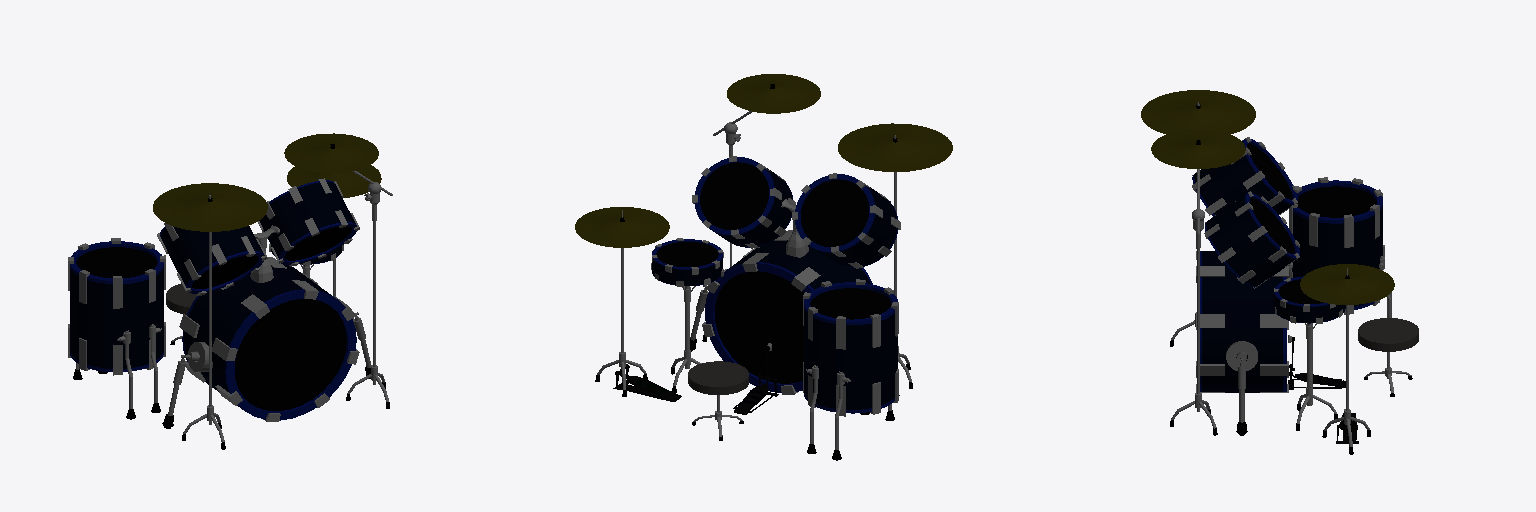
The model's file is musical_drum.obj.
3 renders of one model, left to right at view 1: azimuth 30°, elevation 25°; view 2: azimuth 150°, elevation 25°; view 3: azimuth 270°, elevation 25°, orthographic.
Visible parts, largest first — view 1: DChair; view 2: DChair; view 3: DChair.
Part boxes in pixels (left/top/right/bottom): DChair: left=68, top=133, right=392, bottom=449; DChair: left=575, top=74, right=952, bottom=460; DChair: left=1141, top=90, right=1418, bottom=454.
Bounding box in the file's own units: 2.09 × 1.73 × 1.65.